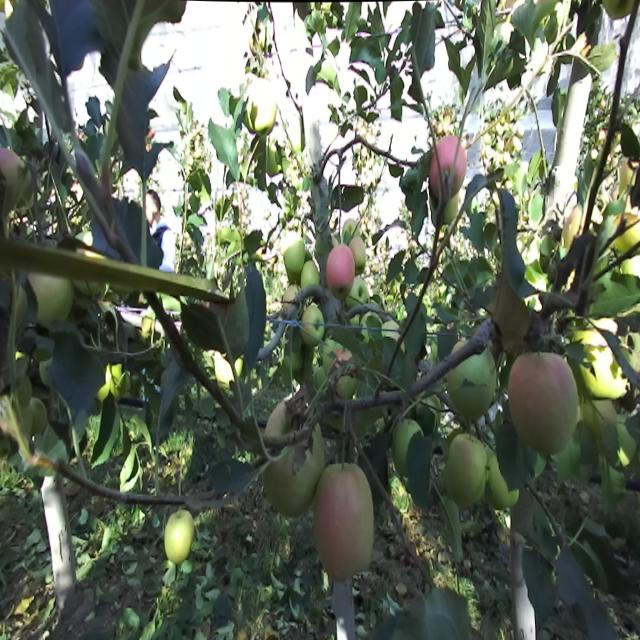apple: (509, 350, 578, 454), (264, 400, 321, 510), (316, 466, 373, 574), (576, 318, 628, 398), (449, 339, 495, 414), (24, 268, 72, 321), (448, 433, 484, 499), (431, 137, 467, 192), (0, 145, 30, 206), (393, 418, 422, 479), (488, 453, 520, 506), (250, 78, 278, 135), (327, 246, 357, 297), (611, 416, 637, 472), (166, 512, 194, 562), (584, 398, 616, 437), (331, 350, 357, 397), (428, 189, 462, 224), (214, 347, 243, 384), (302, 304, 324, 346), (418, 394, 441, 431), (282, 284, 304, 320), (285, 234, 305, 273), (265, 136, 283, 175), (105, 364, 126, 396), (30, 397, 48, 434), (349, 235, 366, 274), (346, 278, 368, 308), (301, 260, 319, 292), (284, 342, 302, 370), (343, 220, 362, 243), (312, 364, 324, 389)
